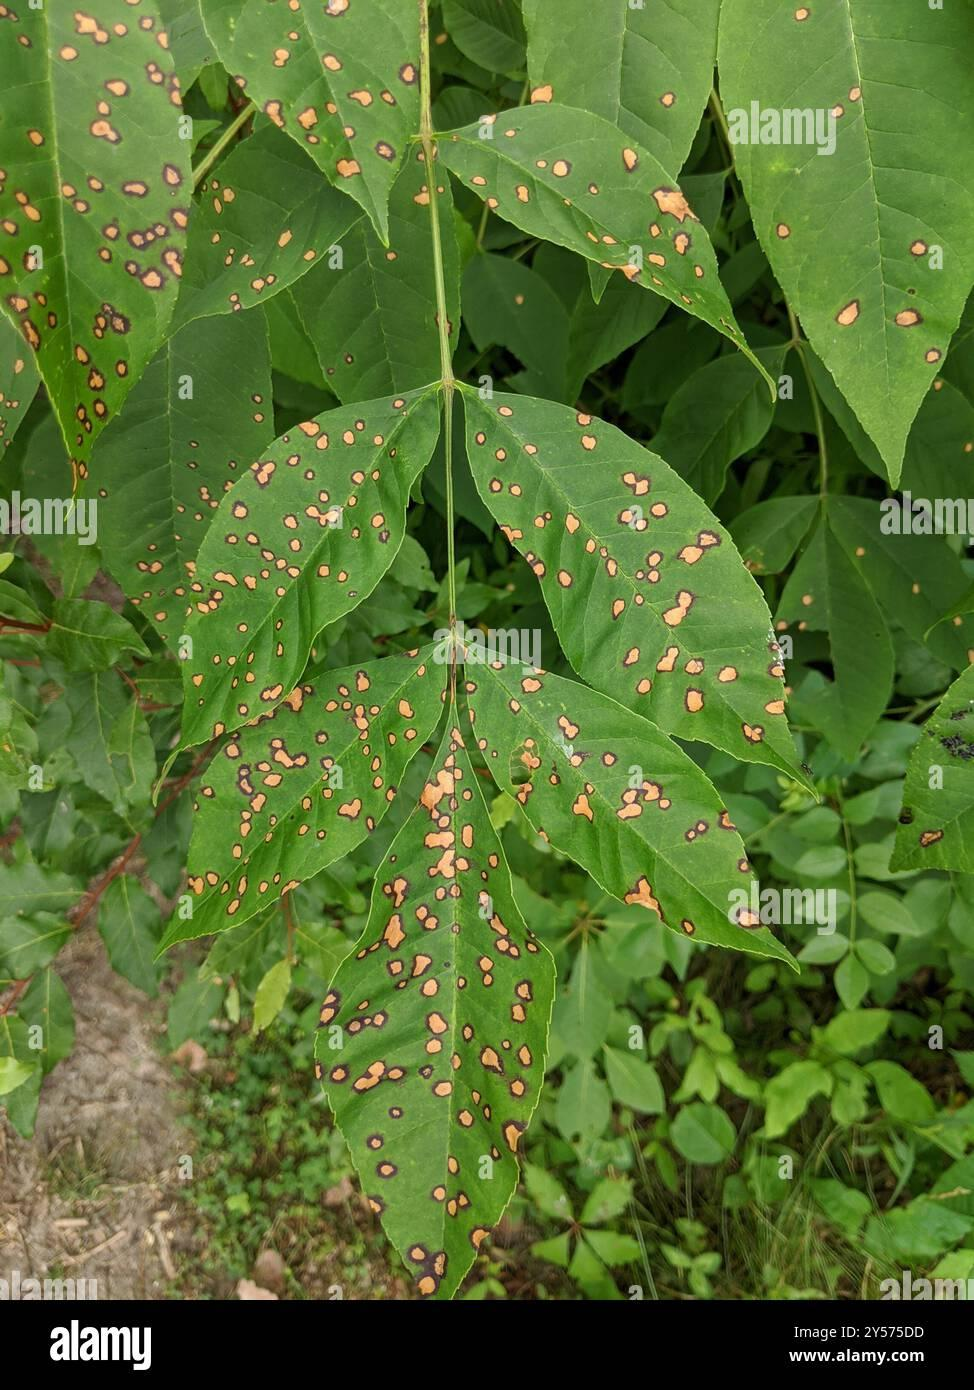leaf_spot: (5, 5, 974, 1314)
